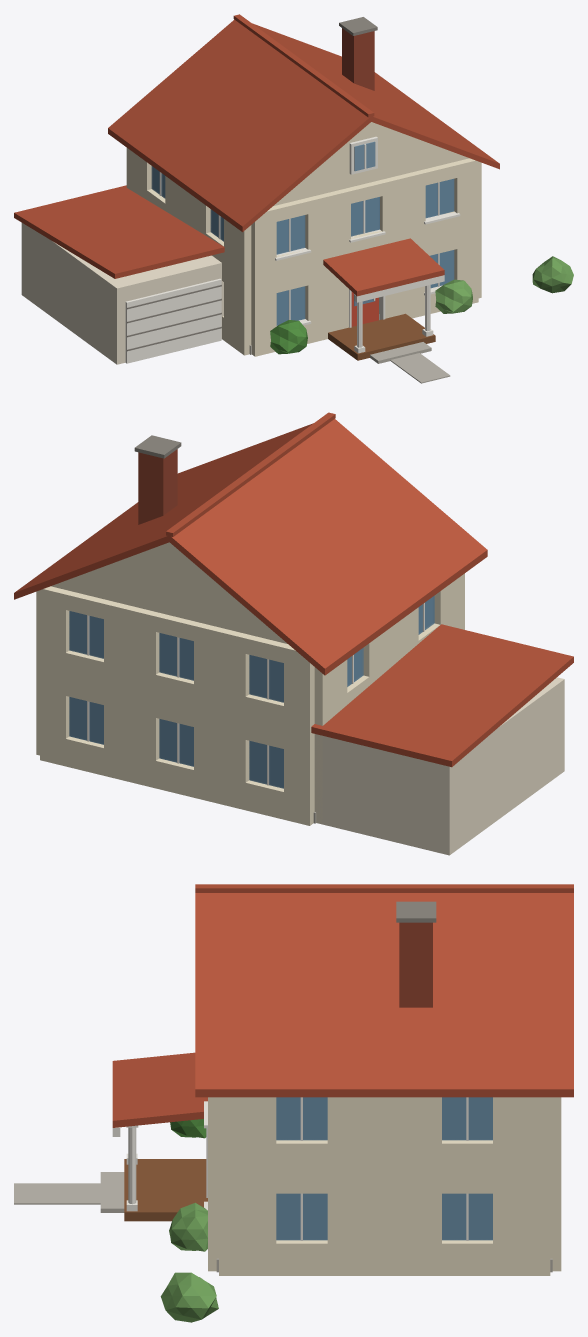
File: BUILDING_01.obj
The picture shows the model from 3 angles, top to bottom: view 1: azimuth 30°, elevation 25°; view 2: azimuth 150°, elevation 25°; view 3: azimuth 270°, elevation 25°; orthographic projection. The views are drawn at different scales.
Parts seen in each view (by area): view 1: roof, garage, walls_floor01, porch, walls_floor00, gable_walls, windows_floor01, garden, chimney, windows_floor00, path, gable_details (+1 smaller); view 2: roof, garage, walls_floor01, walls_floor00, gable_walls, windows_floor01, windows_floor00, chimney; view 3: roof, walls_floor01, walls_floor00, porch, windows_floor00, windows_floor01, garden, chimney, path.
Boxes of the visible parts, x1=… form: roof: x1=108, y1=14, x2=499, y2=232; garage: x1=14, y1=185, x2=224, y2=364; walls_floor01: x1=126, y1=148, x2=481, y2=298; porch: x1=323, y1=238, x2=444, y2=363; walls_floor00: x1=222, y1=239, x2=481, y2=356; gable_walls: x1=273, y1=122, x2=468, y2=206; windows_floor01: x1=151, y1=166, x2=460, y2=260; garden: x1=270, y1=256, x2=573, y2=354; chimney: x1=339, y1=17, x2=377, y2=90; windows_floor00: x1=276, y1=250, x2=454, y2=325; path: x1=390, y1=353, x2=450, y2=383; gable_details: x1=349, y1=136, x2=377, y2=174; roof: x1=14, y1=412, x2=487, y2=675; garage: x1=311, y1=624, x2=573, y2=855; walls_floor01: x1=36, y1=573, x2=464, y2=755; walls_floor00: x1=36, y1=684, x2=322, y2=825; gable_walls: x1=51, y1=542, x2=287, y2=643; windows_floor01: x1=69, y1=595, x2=434, y2=702; windows_floor00: x1=69, y1=697, x2=283, y2=788; chimney: x1=134, y1=435, x2=181, y2=524; roof: x1=195, y1=884, x2=573, y2=1097; walls_floor01: x1=208, y1=1097, x2=561, y2=1193; walls_floor00: x1=208, y1=1189, x2=561, y2=1275; porch: x1=100, y1=1052, x2=207, y2=1221; windows_floor00: x1=204, y1=1193, x2=492, y2=1240; windows_floor01: x1=204, y1=1097, x2=492, y2=1140; garden: x1=160, y1=1119, x2=218, y2=1322; chimney: x1=396, y1=901, x2=436, y2=1007; path: x1=14, y1=1183, x2=100, y2=1204.
Size of the model in its own units: 17.51 by 9.25 by 14.2.
